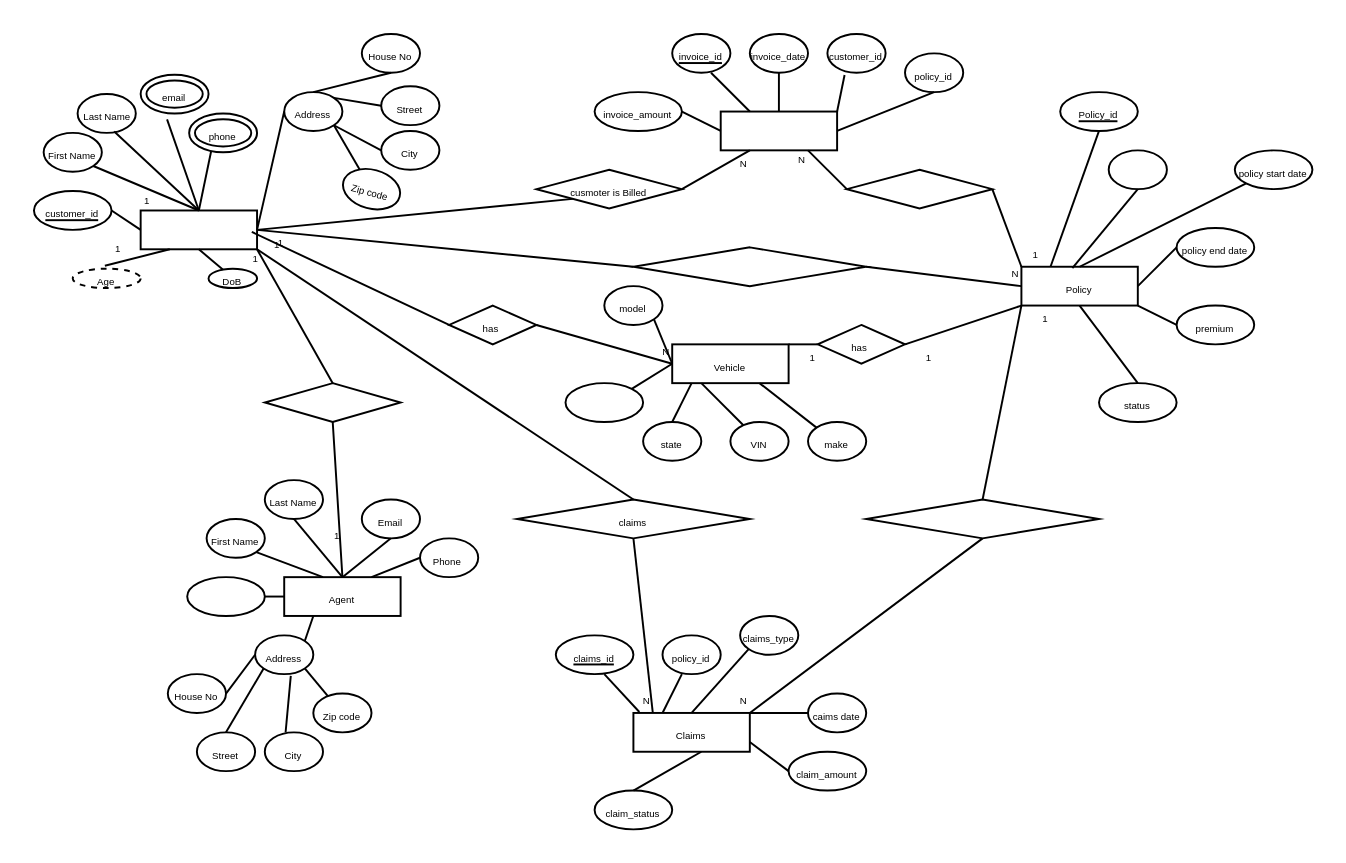
The diagram is 1346 pixels wide and 863 high, and some of its shapes have lost their labels. The centre of each missing label's shape, as x and y in pixels:
"Agent_id" belongs at (x=225, y=595).
"Billed to" belongs at (x=918, y=188).
"Billing" belongs at (x=778, y=130).
"claims compensation" belongs at (x=981, y=518).
"Customer" belongs at (x=198, y=229).
"Enrolled by" belongs at (x=332, y=401).
"Enrolled in" belongs at (x=748, y=265).
"policy type" belongs at (x=1137, y=168).
"Registration_no" belongs at (x=603, y=401).
